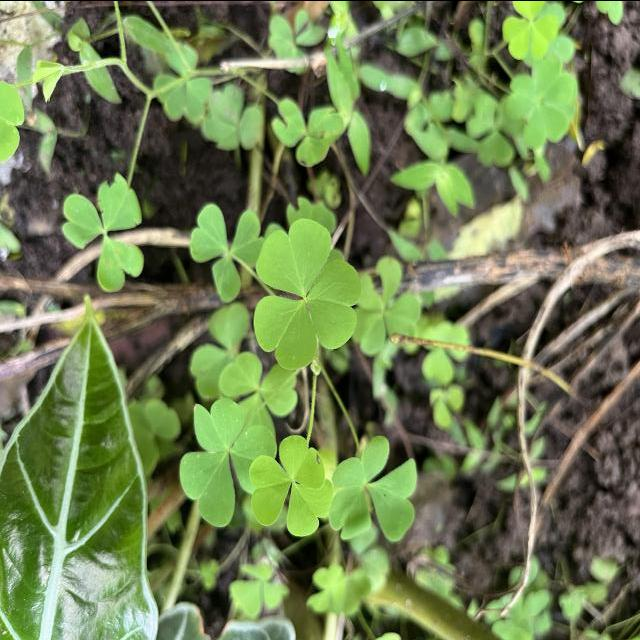Oxalis corniculata: (253, 218, 363, 372), (178, 396, 278, 528), (61, 168, 146, 294), (329, 432, 420, 544), (249, 433, 335, 538), (189, 200, 264, 299)
